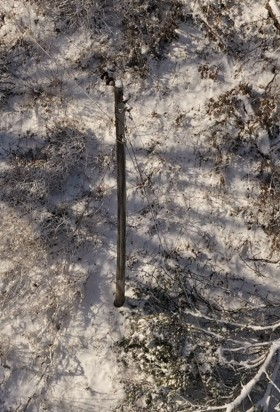pole: (89, 69, 152, 313)
